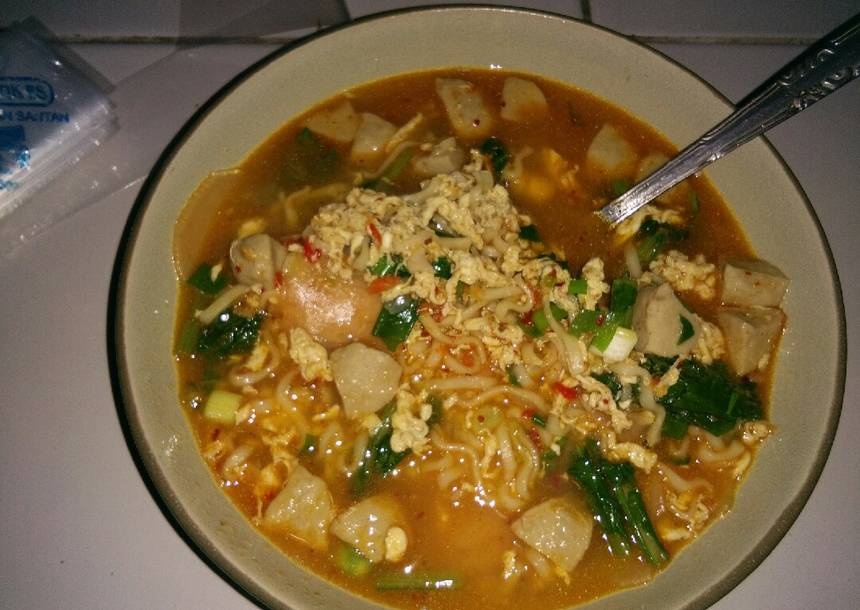seblak: (177, 68, 789, 595)
